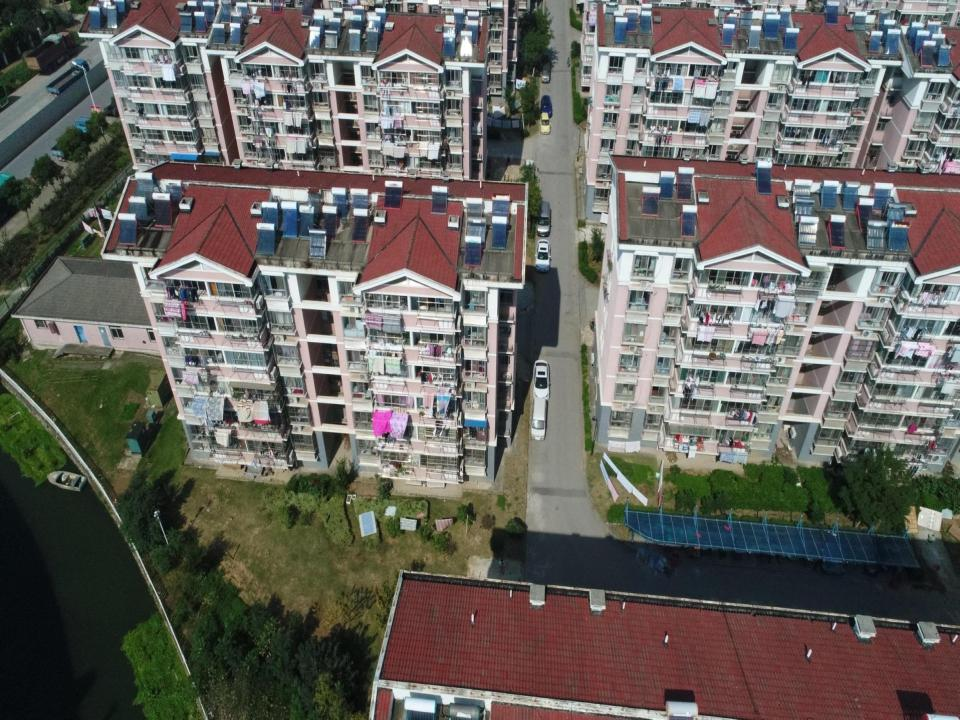car: (533, 359, 550, 400), (534, 239, 551, 272), (540, 96, 553, 118), (539, 112, 551, 134)
truck: (24, 31, 76, 75), (49, 116, 94, 162), (46, 58, 92, 101)
van: (531, 397, 547, 441), (535, 200, 551, 236), (541, 63, 551, 83)
